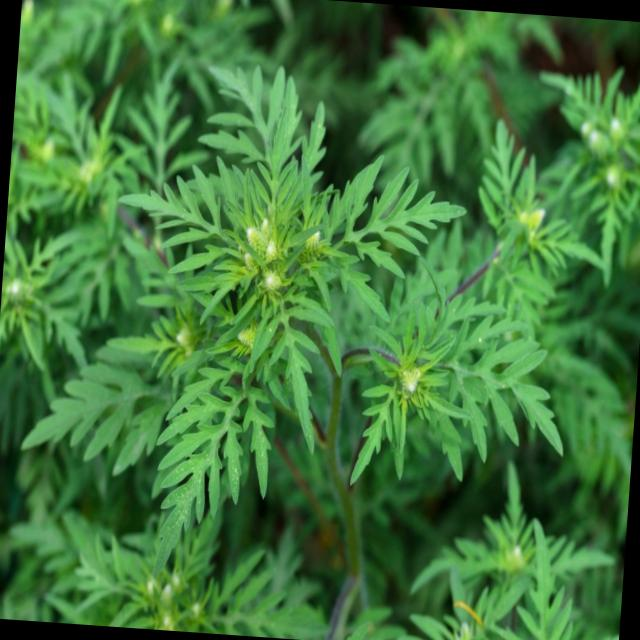ambrosia: (138, 87, 444, 424)
